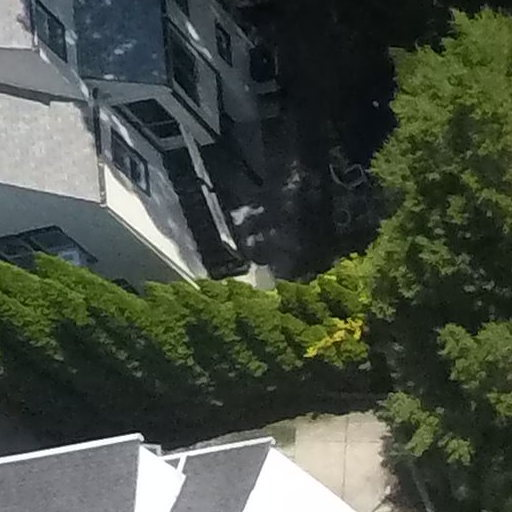container: (329, 208, 353, 227)
